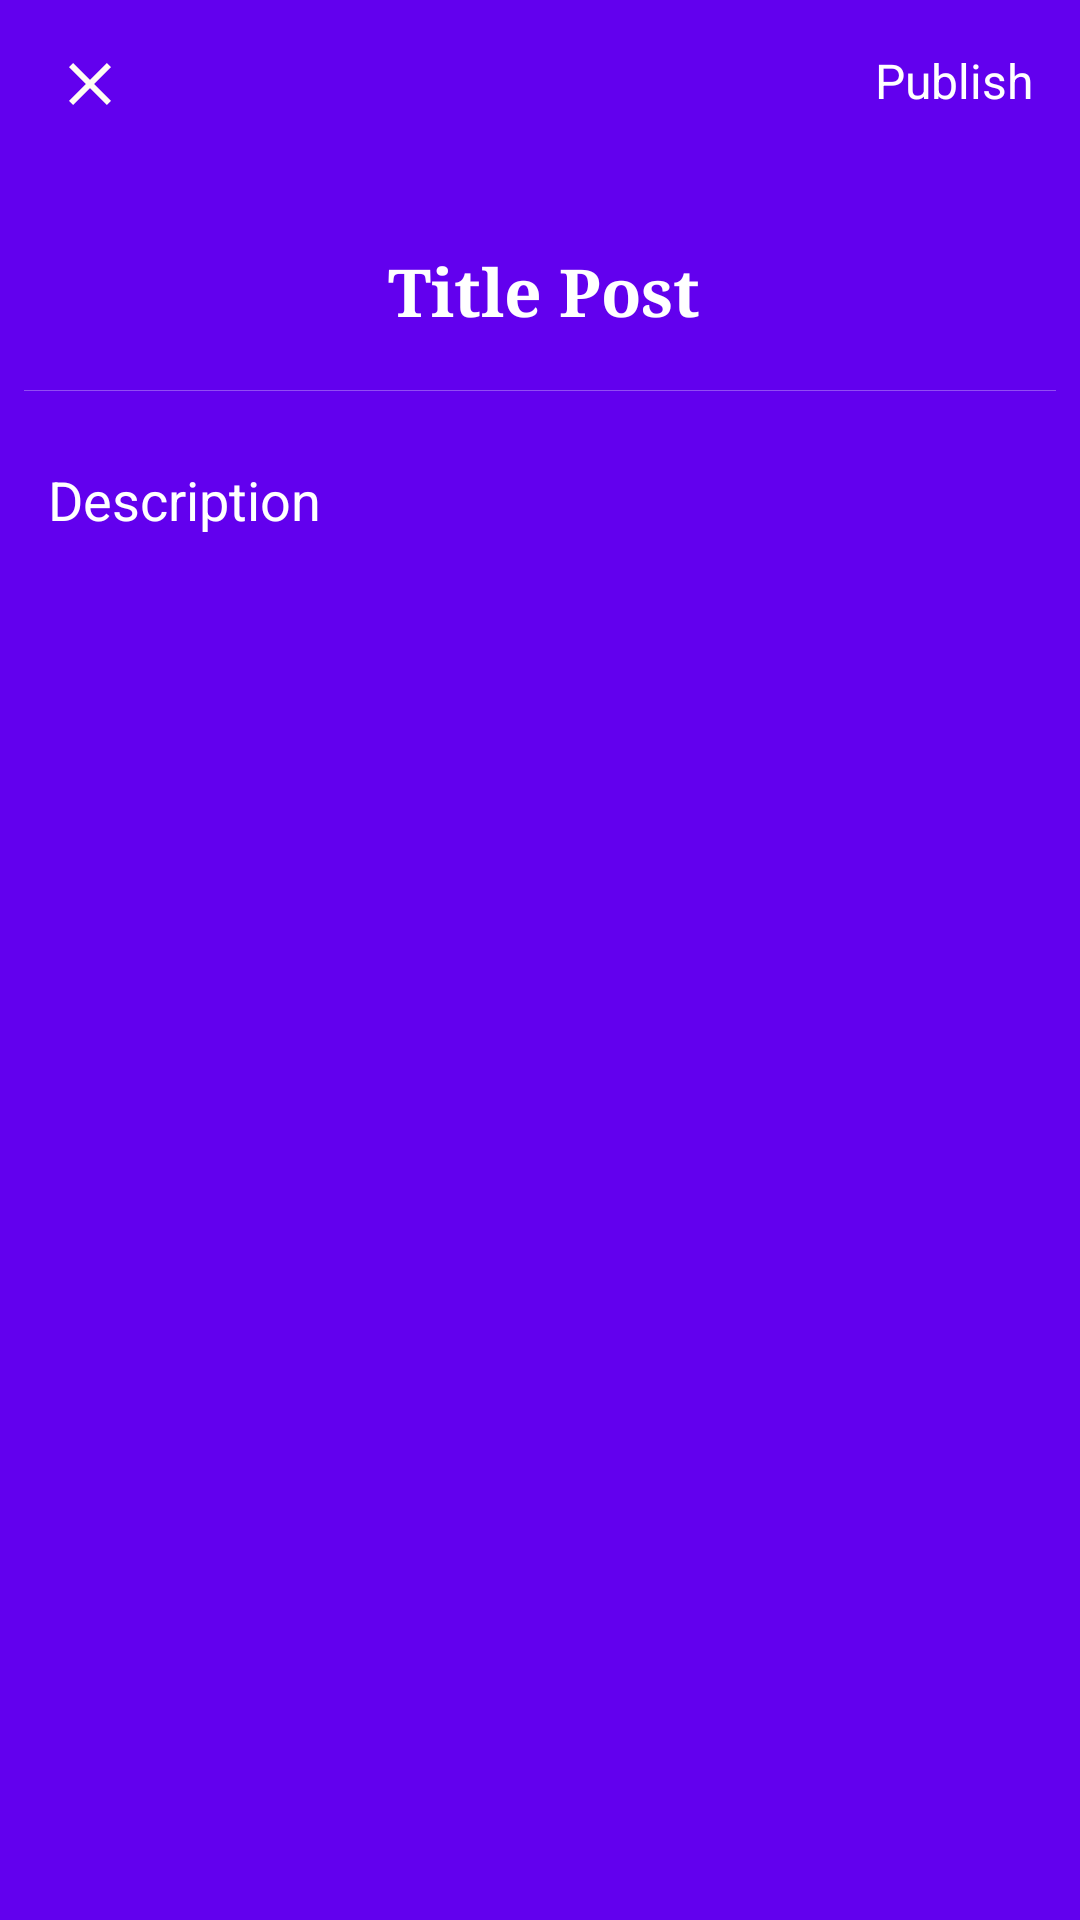

Screen size 1080*1920. Icon name, then its center in pixels as point (x, y):
close: point (90, 84)
